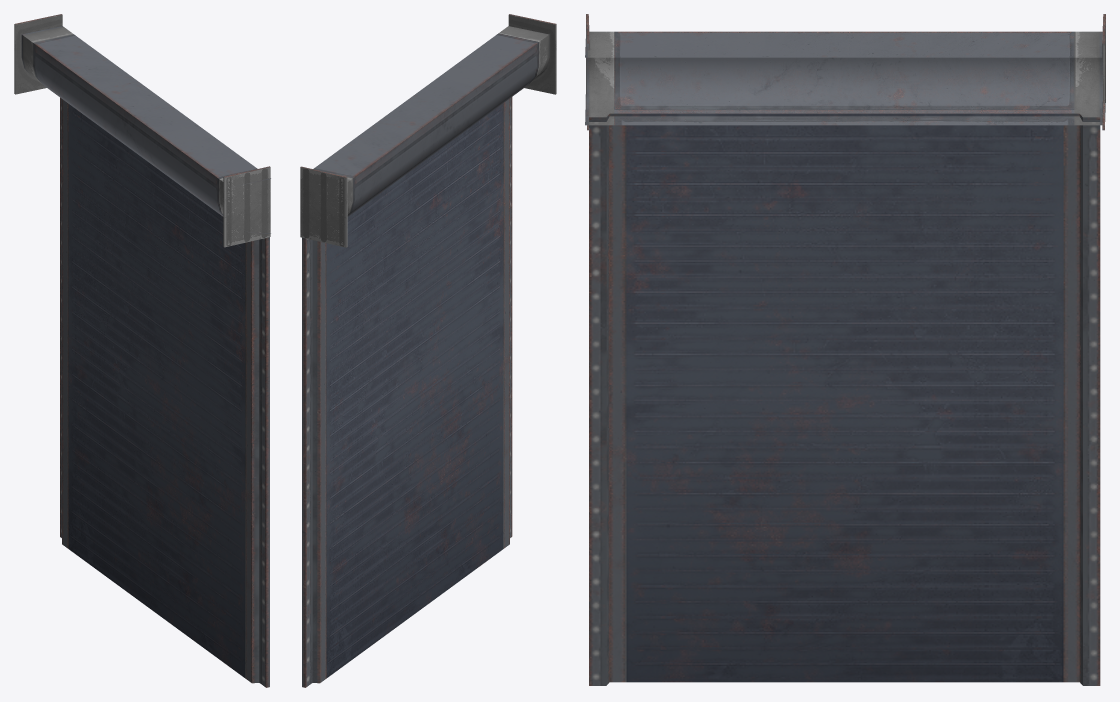
File: MB_Roller_Shutters_01.fbx
3 views of the same model, side by side, from view 1: azimuth 30°, elevation 25°; view 2: azimuth 150°, elevation 25°; view 3: azimuth 270°, elevation 25° (orthographic). The views are drawn at different scales.
Parts seen in each view (by area): view 1: MB_Roller_Shutters_01; view 2: MB_Roller_Shutters_01; view 3: MB_Roller_Shutters_01.
Boxes of the visible parts, bbox=[...] form: MB_Roller_Shutters_01: bbox=[14, 14, 270, 687]; MB_Roller_Shutters_01: bbox=[300, 14, 556, 687]; MB_Roller_Shutters_01: bbox=[585, 14, 1105, 685].
Bounding box in the file's own units: 24.66 × 263 × 192.
